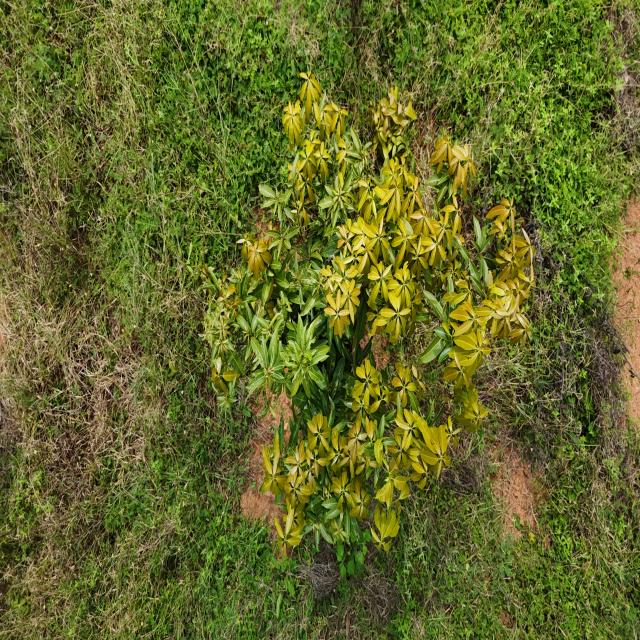mangoTree: (203, 64, 538, 555)
